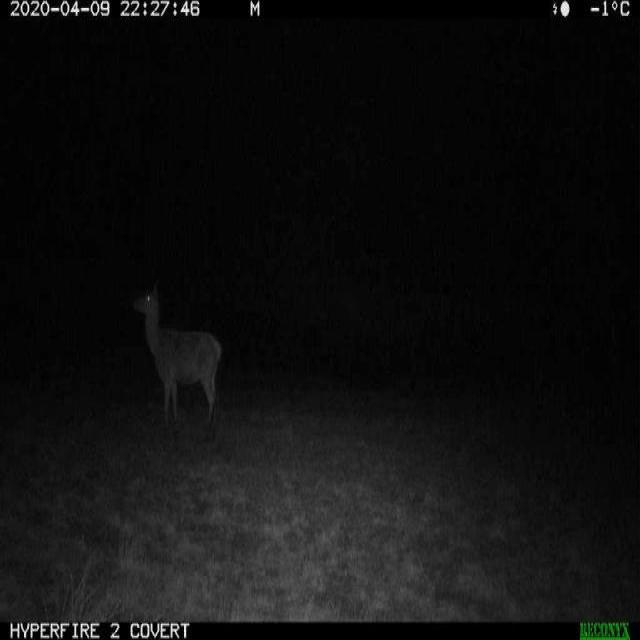deer: (125, 270, 228, 450)
